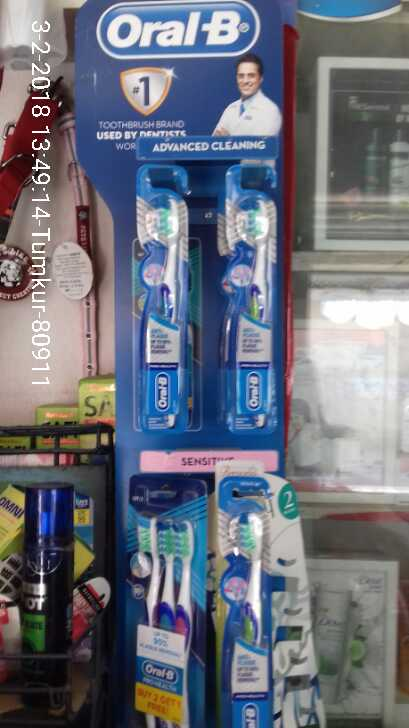oralb: (121, 519, 208, 728), (209, 502, 289, 728), (130, 184, 196, 439), (224, 190, 285, 429)
